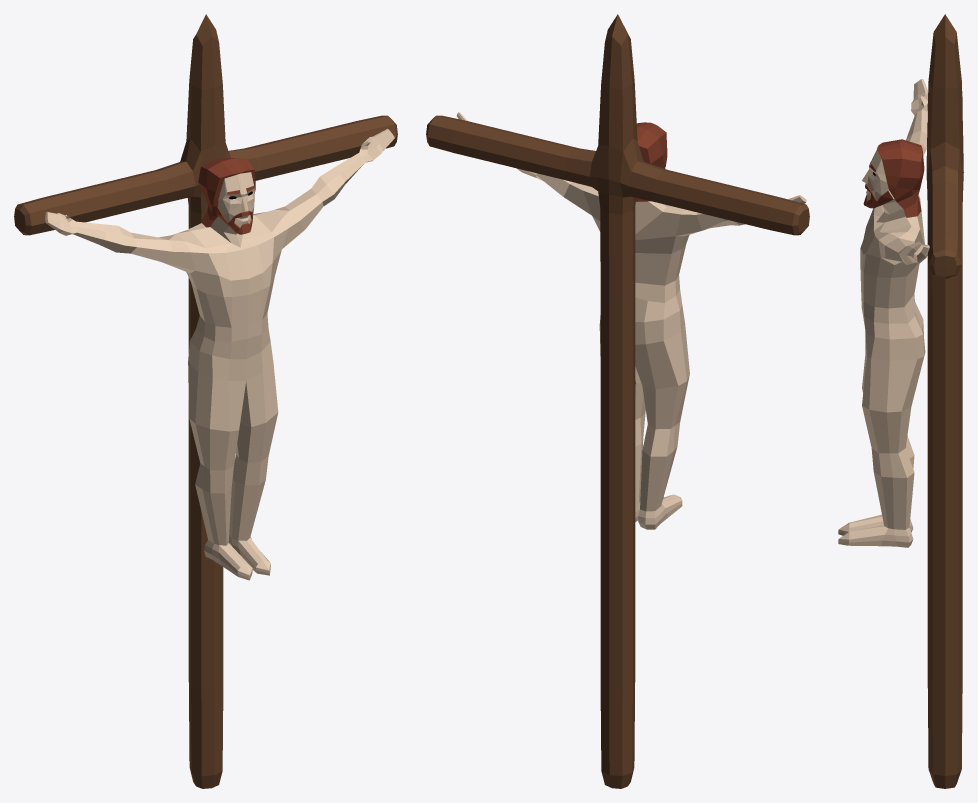
The model's file is CRISTO.fbx.
3 renders of one model, left to right at view 1: azimuth 30°, elevation 25°; view 2: azimuth 150°, elevation 25°; view 3: azimuth 270°, elevation 25°, orthographic.
Parts seen in each view (by area): view 1: Cubo, Cubo.001; view 2: Cubo.001, Cubo; view 3: Cubo.001, Cubo.
Boxes of the visible parts, left/top/right/bottom form: Cubo: left=45, top=128, right=394, bottom=580; Cubo.001: left=14, top=14, right=397, bottom=788; Cubo.001: left=426, top=14, right=809, bottom=788; Cubo: left=457, top=112, right=806, bottom=529; Cubo.001: left=926, top=14, right=963, bottom=788; Cubo: left=838, top=79, right=929, bottom=547.
Size of the model in its own units: 708 by 1402 by 207.
